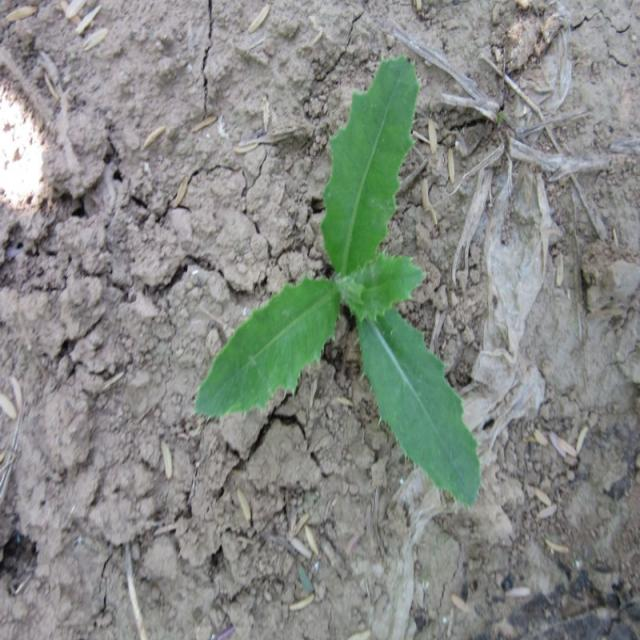field_thistle: (180, 56, 510, 503)
